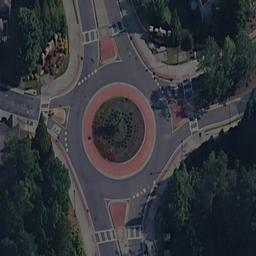Crosswalk: (179, 77, 200, 132), (151, 77, 170, 102), (129, 181, 150, 201), (92, 228, 118, 243), (38, 98, 50, 126), (126, 222, 143, 241), (109, 16, 123, 39), (78, 29, 99, 44), (63, 129, 69, 151)
White Dashed Line: (74, 67, 102, 92)
